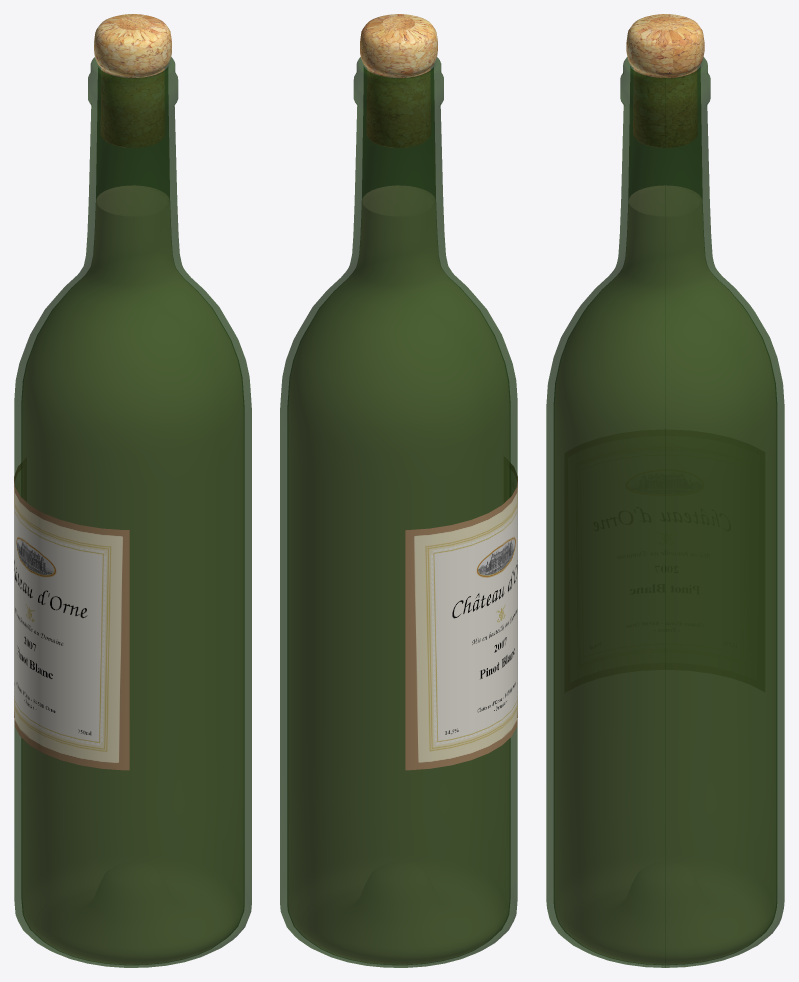
Rendered from Pg15Wine_Bottle_White.fbx.
The picture shows the model from 3 angles, left to right: view 1: azimuth 30°, elevation 25°; view 2: azimuth 150°, elevation 25°; view 3: azimuth 270°, elevation 25°; orthographic projection.
Parts seen in each view (by area): view 1: Wine_Bottle_White_Cylinder_002, Wine_Bottle_White_Wine_Cylinder_003, Wine_Bottle_White_Label_Cylinder_000, Wine_Bottle_White_Cork_Cylinder_001; view 2: Wine_Bottle_White_Cylinder_002, Wine_Bottle_White_Wine_Cylinder_003, Wine_Bottle_White_Label_Cylinder_000, Wine_Bottle_White_Cork_Cylinder_001; view 3: Wine_Bottle_White_Cylinder_002, Wine_Bottle_White_Wine_Cylinder_003, Wine_Bottle_White_Cork_Cylinder_001.
Part boxes in pixels (x1,y1,x2,y2): Wine_Bottle_White_Cylinder_002: (14, 57, 251, 967); Wine_Bottle_White_Wine_Cylinder_003: (22, 185, 243, 964); Wine_Bottle_White_Label_Cylinder_000: (14, 463, 129, 770); Wine_Bottle_White_Cork_Cylinder_001: (94, 14, 171, 147); Wine_Bottle_White_Cylinder_002: (280, 57, 517, 967); Wine_Bottle_White_Wine_Cylinder_003: (288, 185, 509, 964); Wine_Bottle_White_Label_Cylinder_000: (405, 463, 517, 770); Wine_Bottle_White_Cork_Cylinder_001: (360, 14, 437, 147); Wine_Bottle_White_Cylinder_002: (546, 57, 784, 967); Wine_Bottle_White_Wine_Cylinder_003: (555, 185, 775, 964); Wine_Bottle_White_Cork_Cylinder_001: (626, 14, 704, 147).
Bounding box in the file's own units: 1.18 × 4.91 × 1.18.
Materials: 4 (2 with a texture image).
